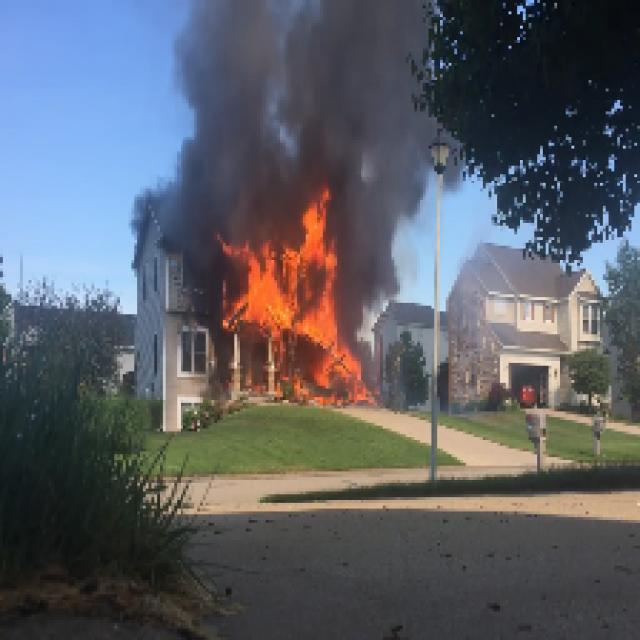Fire: (220, 243, 292, 326), (297, 286, 349, 380), (297, 194, 334, 266)
Smoke: (162, 2, 292, 232), (288, 2, 432, 188), (343, 200, 420, 343)
